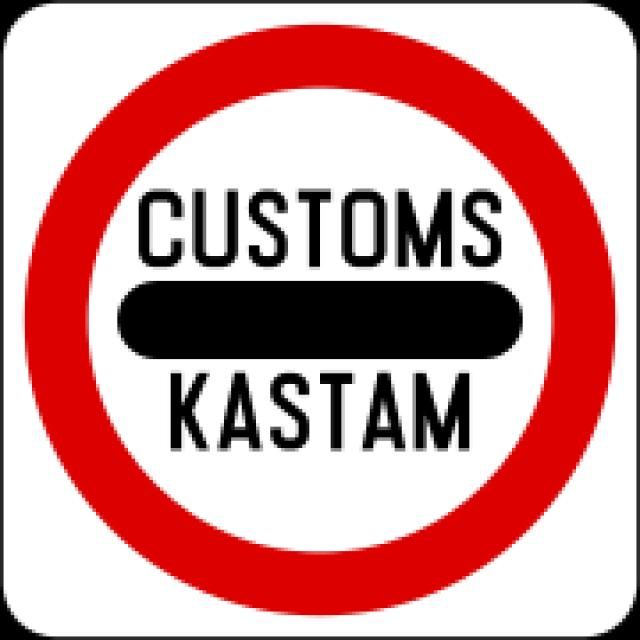Traffic sign: (34, 38, 601, 596)
